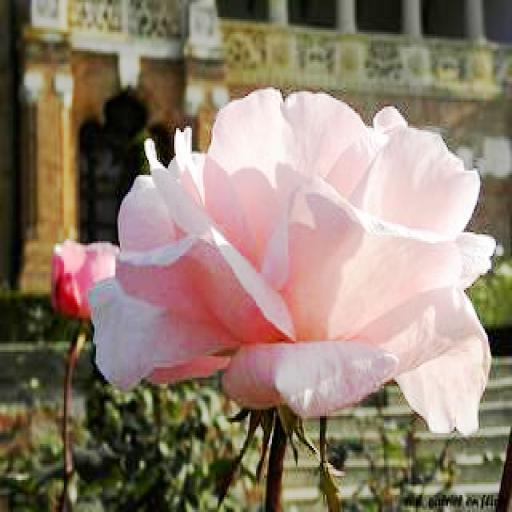rose: (91, 83, 499, 425)
